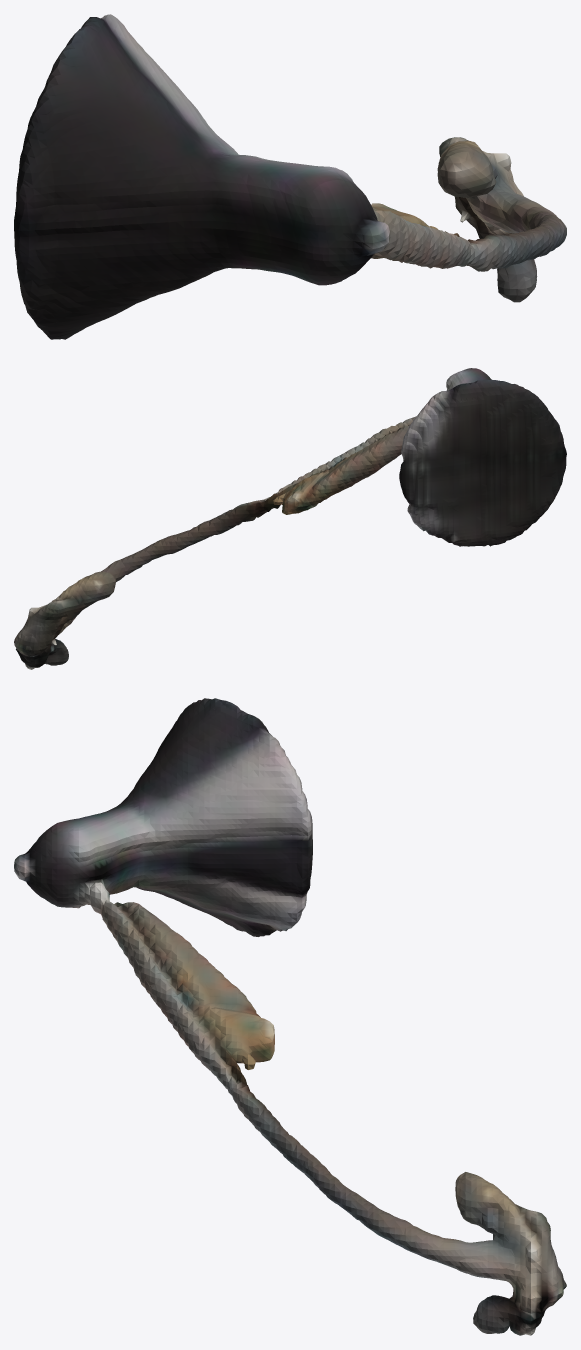
3 views of the same model, one above another, from view 1: azimuth 30°, elevation 25°; view 2: azimuth 150°, elevation 25°; view 3: azimuth 270°, elevation 25° (orthographic). The views are drawn at different scales.
Bounding box in the file's own units: 0.8247 × 0.5622 × 0.693.
